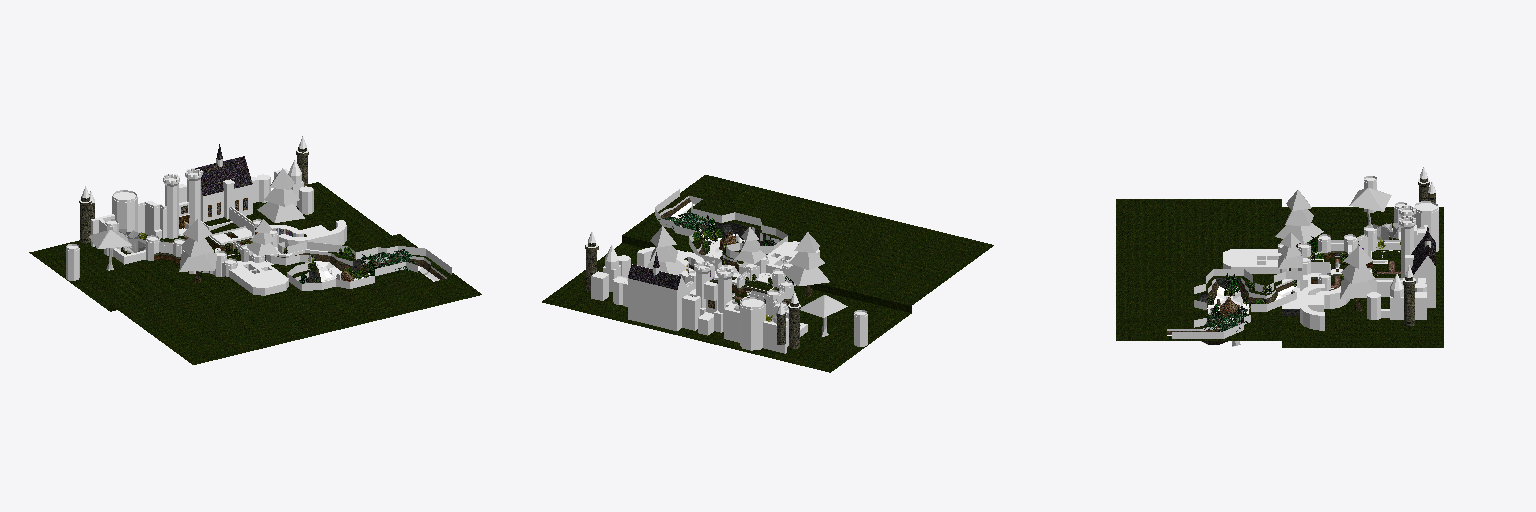
3 renders of one model, left to right at view 1: azimuth 30°, elevation 25°; view 2: azimuth 150°, elevation 25°; view 3: azimuth 270°, elevation 25°, orthographic.
Parts seen in each view (by area): view 1: Group4_1, Group1_1, skFirTreeThin, Group35, Group5_1, Group60, Group7_1, Group44_1, Group33, Group51_1, skFirTreeMed; view 2: Group4_1, Group1_1, skFirTreeThin, Group35, Group5_1, Group44_1, Group60, skFirTreeMed, Group33, Group38_1, Group7_1; view 3: Group4_1, Group1_1, skFirTreeThin, Group35, Group5_1, Group44_1, skFirTreeMed, Group33, Group51_1, Group60.
Boxes of the visible parts, x1,y1,x2,y2 form: Group4_1: [29, 182, 481, 364]; Group1_1: [66, 156, 346, 295]; skFirTreeThin: [179, 168, 304, 283]; Group35: [266, 242, 451, 290]; Group5_1: [66, 172, 278, 269]; Group60: [195, 144, 252, 195]; Group7_1: [113, 207, 277, 276]; Group44_1: [79, 147, 308, 243]; Group33: [66, 190, 377, 266]; Group51_1: [278, 250, 446, 281]; skFirTreeMed: [89, 230, 131, 270]; Group4_1: [542, 175, 993, 372]; Group1_1: [591, 229, 867, 345]; skFirTreeThin: [646, 226, 829, 297]; Group35: [655, 189, 787, 274]; Group5_1: [628, 230, 867, 320]; Group44_1: [585, 243, 800, 348]; Group60: [628, 252, 680, 289]; skFirTreeMed: [800, 295, 847, 336]; Group33: [686, 228, 866, 321]; Group38_1: [628, 253, 780, 300]; Group7_1: [677, 280, 807, 350]; Group4_1: [1116, 199, 1443, 347]; Group1_1: [1216, 185, 1438, 330]; skFirTreeThin: [1275, 190, 1376, 311]; Group35: [1172, 269, 1307, 338]; Group5_1: [1278, 178, 1438, 285]; Group44_1: [1403, 178, 1435, 325]; skFirTreeMed: [1349, 188, 1391, 226]; Group33: [1278, 176, 1437, 279]; Group51_1: [1167, 278, 1302, 344]; Group60: [1411, 227, 1435, 274].
Bounding box in the file's own units: 10416 × 3392 × 10240.
Materials: 126 (55 with a texture image).